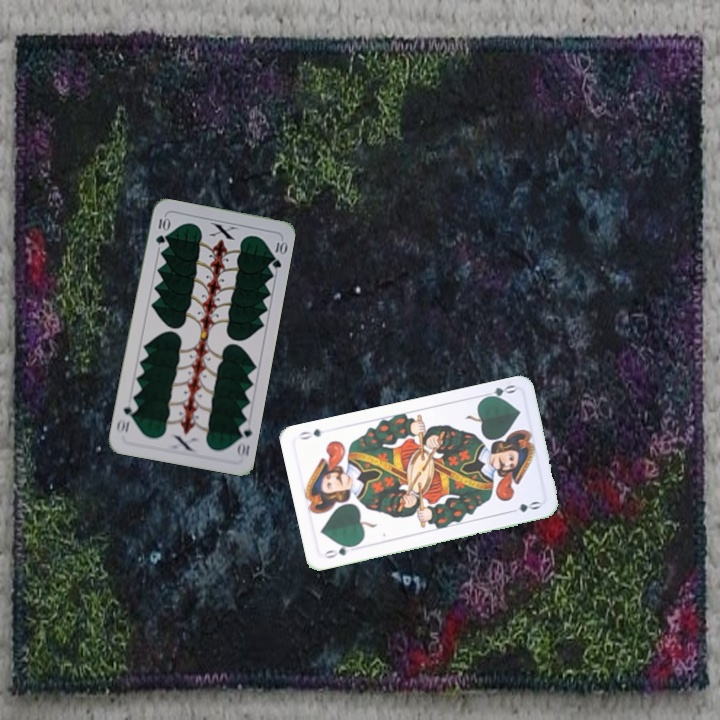G10: (233, 419, 255, 460), (152, 213, 171, 247)
GO: (477, 381, 518, 402), (320, 541, 359, 561)
